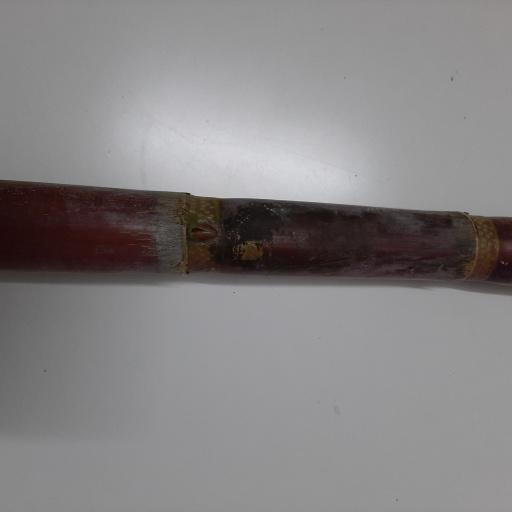Bud: (188, 221, 219, 242)
